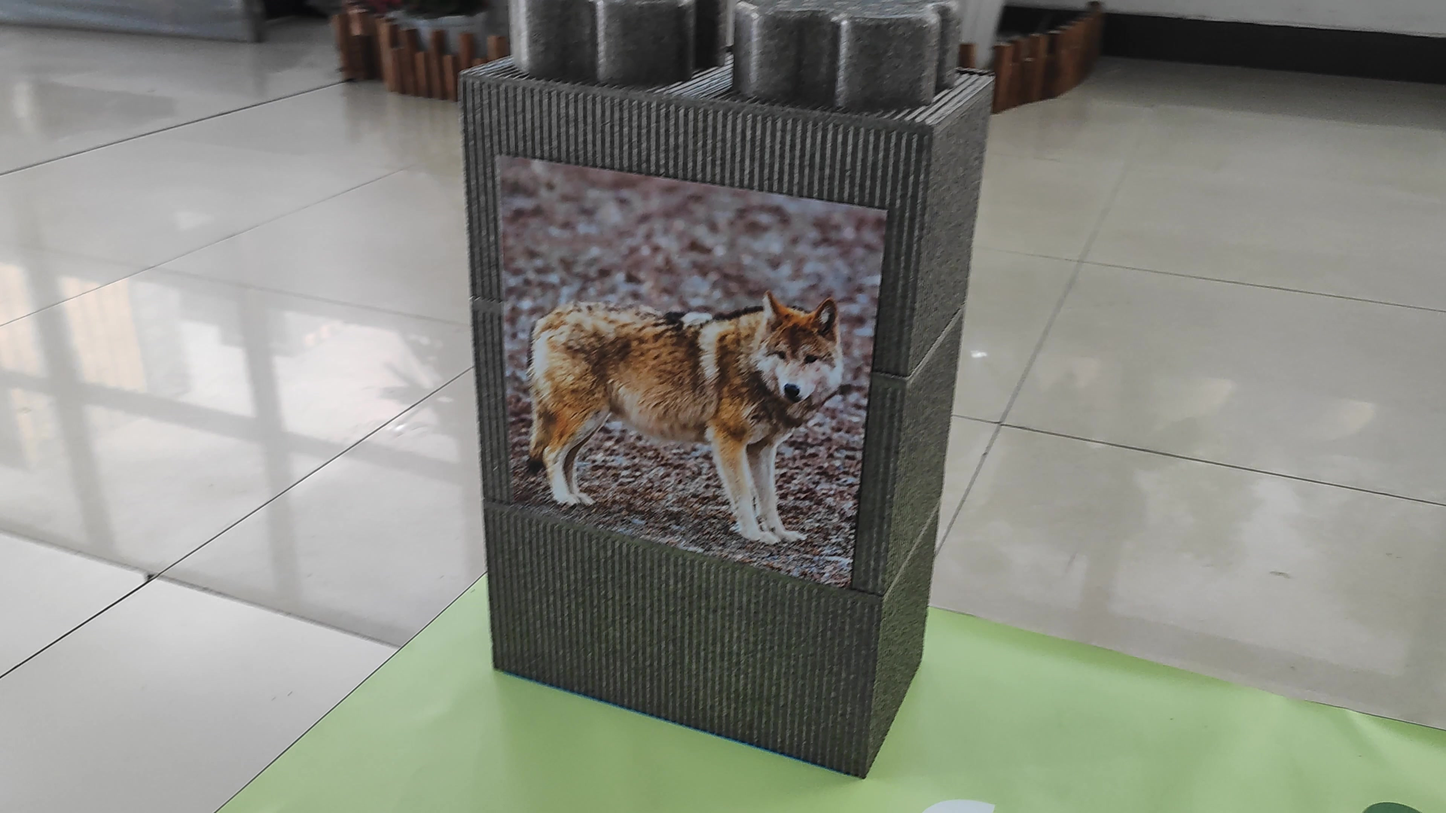wolf: (511, 262, 863, 537)
